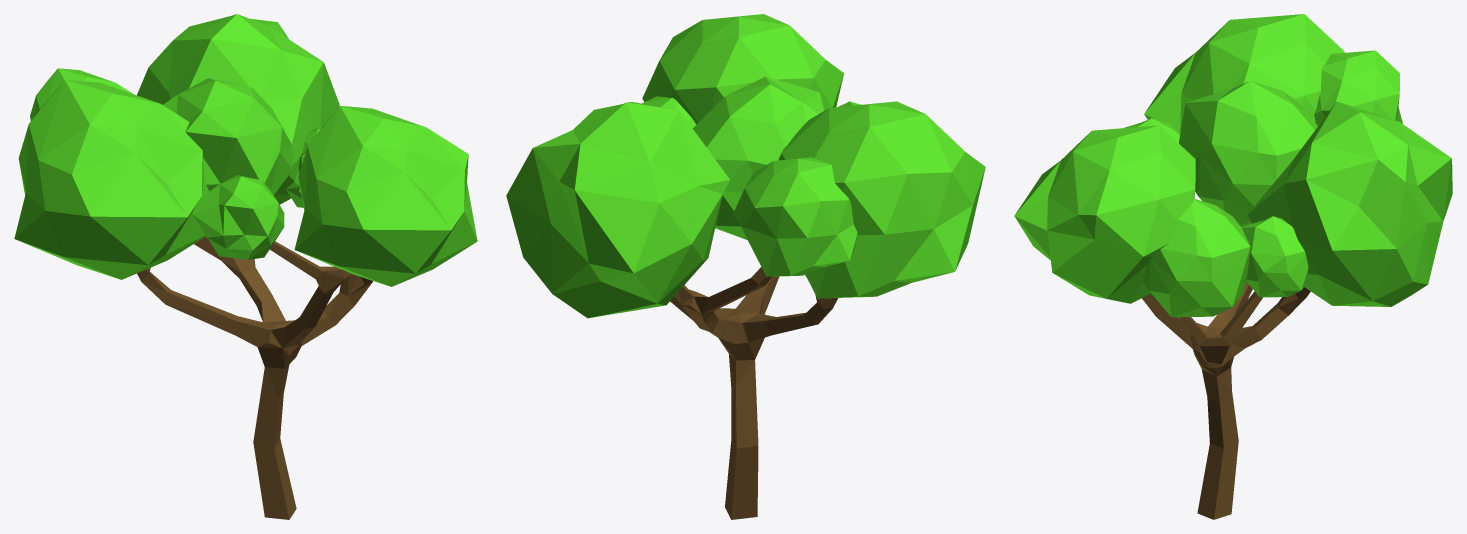
File: tree1.fbx
The picture shows the model from 3 angles, left to right: view 1: azimuth 30°, elevation 25°; view 2: azimuth 150°, elevation 25°; view 3: azimuth 270°, elevation 25°; orthographic projection. The views are drawn at different scales.
Visible parts, largest first — view 1: Tree1_LOD0; view 2: Tree1_LOD0; view 3: Tree1_LOD0.
Part boxes in pixels (x1=…): Tree1_LOD0: x1=14, y1=14, x2=477, y2=519; Tree1_LOD0: x1=506, y1=14, x2=985, y2=519; Tree1_LOD0: x1=1014, y1=14, x2=1452, y2=519.
Size of what is drawn, in the model's own units: 696 by 804 by 758.
